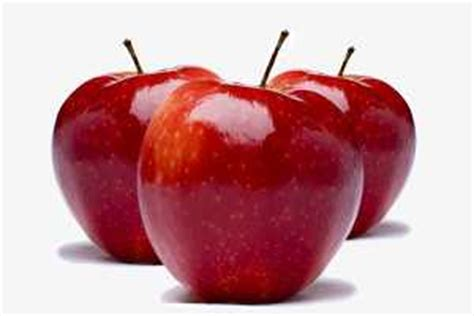apple: (134, 72, 368, 310), (46, 65, 232, 264), (266, 72, 419, 240)
